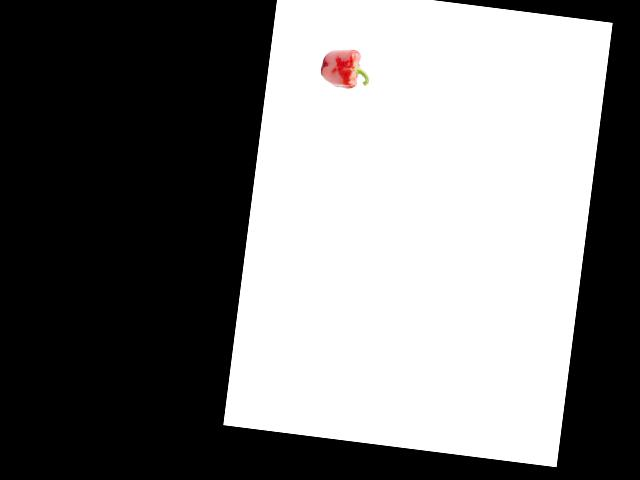bell_pepper: (316, 43, 374, 94)
